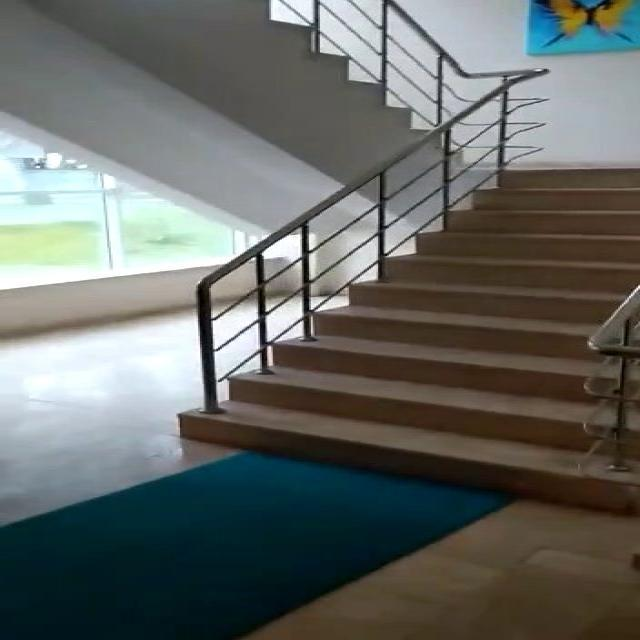stair: (135, 159, 640, 513)
